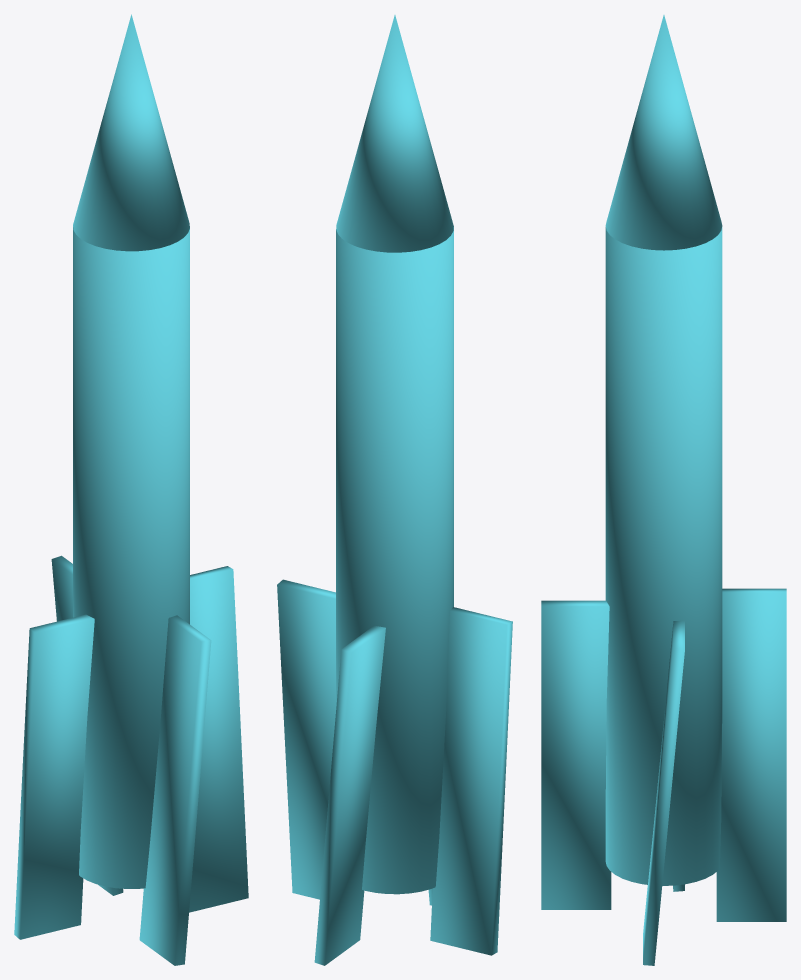
The model's file is booster.fbx.
3 renders of one model, left to right at view 1: azimuth 30°, elevation 25°; view 2: azimuth 150°, elevation 25°; view 3: azimuth 270°, elevation 25°, orthographic.
Visible parts, largest first — view 1: Cube; view 2: Cube; view 3: Cube.
Boxes of the visible parts, x1,y1,x2,y2 form: Cube: [14, 14, 248, 965]; Cube: [277, 15, 512, 965]; Cube: [541, 15, 786, 965].
Bounding box in the file's own units: 210 × 850 × 210.
